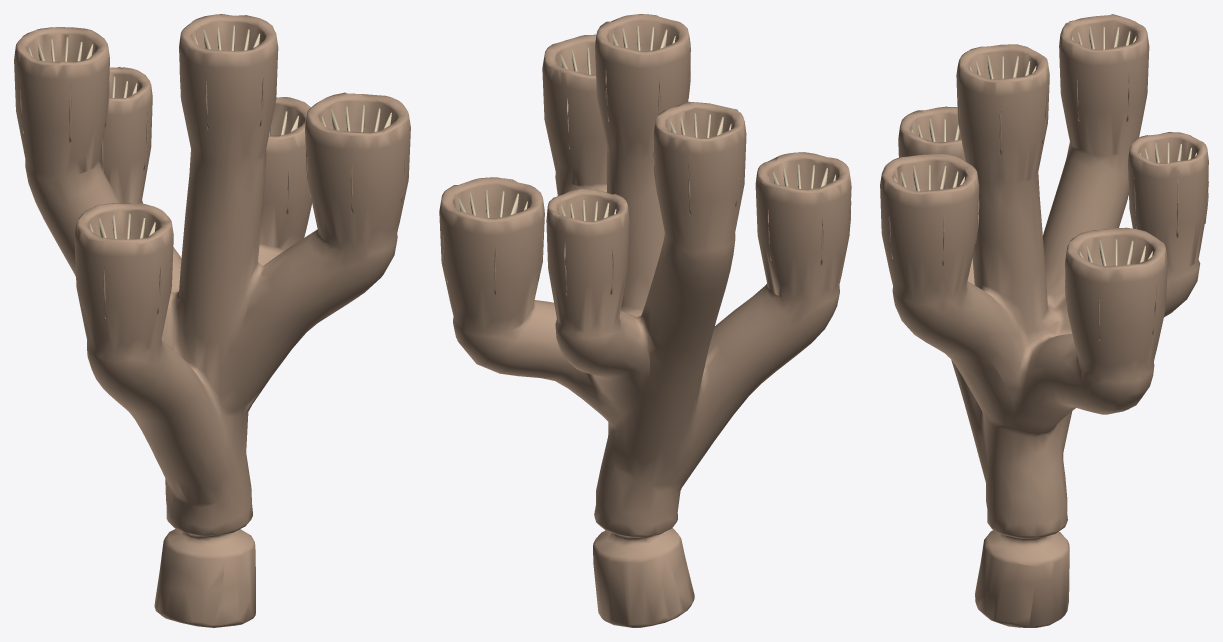
File: thecosmilia.glb
3 renders of one model, left to right at view 1: azimuth 30°, elevation 25°; view 2: azimuth 150°, elevation 25°; view 3: azimuth 270°, elevation 25°, orthographic. The views are drawn at different scales.
Parts seen in each view (by area): view 1: naturally-forked-thick-branch-corallum, simplified-unequal-radial-cup-septa, restrained-longitudinal-corallite-costae; view 2: naturally-forked-thick-branch-corallum, simplified-unequal-radial-cup-septa, restrained-longitudinal-corallite-costae; view 3: naturally-forked-thick-branch-corallum, simplified-unequal-radial-cup-septa, restrained-longitudinal-corallite-costae.
Boxes of the visible parts, x1,y1,x2,y2 form: naturally-forked-thick-branch-corallum: (14, 14, 410, 627); simplified-unequal-radial-cup-septa: (29, 25, 391, 239); restrained-longitudinal-corallite-costae: (19, 71, 405, 318); naturally-forked-thick-branch-corallum: (439, 14, 851, 627); simplified-unequal-radial-cup-septa: (458, 26, 835, 220); restrained-longitudinal-corallite-costae: (443, 60, 851, 295); naturally-forked-thick-branch-corallum: (880, 14, 1208, 627); simplified-unequal-radial-cup-septa: (894, 26, 1196, 266); restrained-longitudinal-corallite-costae: (888, 69, 1208, 340).
Size of the model in its own units: 0.114 by 0.2001 by 0.1074.
